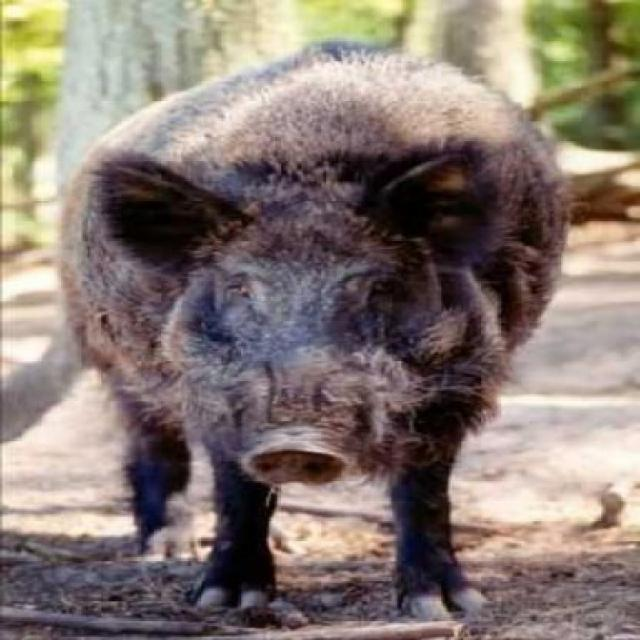pig: (25, 46, 563, 614)
